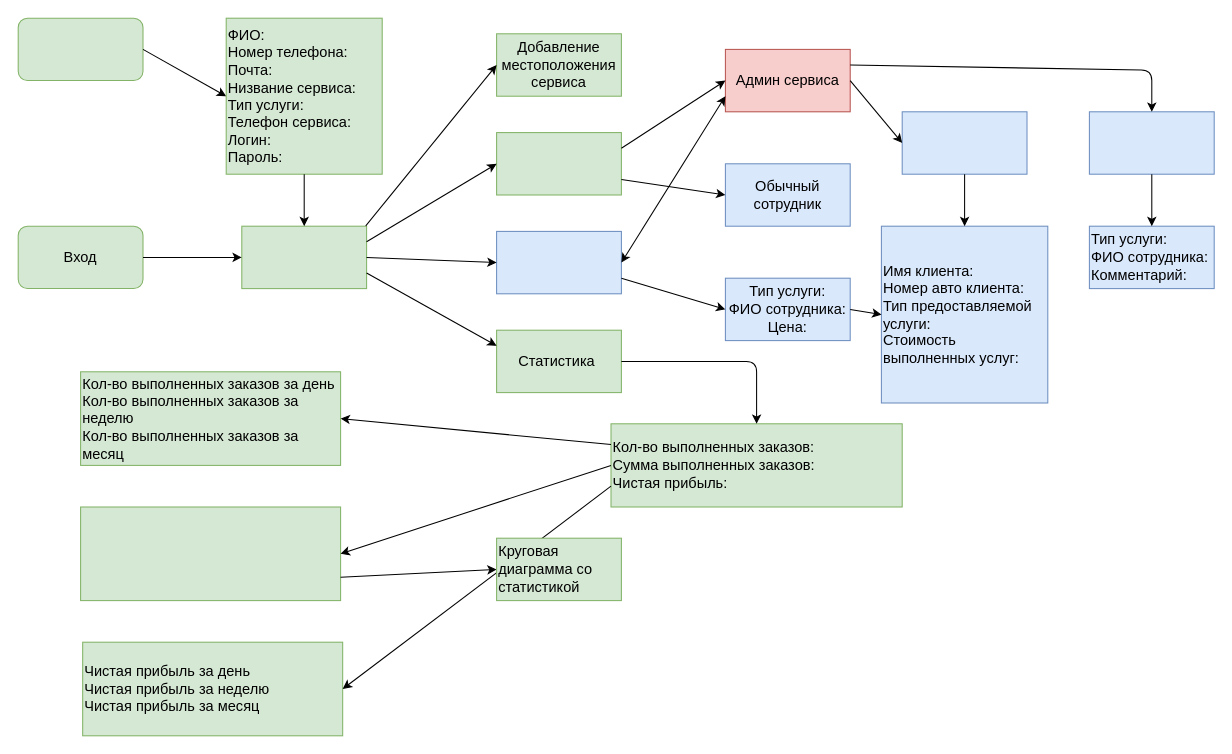
Image size: 1232x754. Some labels were removed from this diagram. Each missing label, with the box of its shape:
Добавление жалоб: (1088, 111, 1214, 174)
Добавление заказов: (901, 111, 1027, 174)
Добавление предоставляемых услуг: (496, 230, 621, 294)
Добавления сотрудников сервиса: (496, 132, 621, 195)
Меню: (241, 225, 367, 289)
Регистрация: (17, 17, 143, 81)
Соотношение прибыли и затрат: (80, 506, 341, 601)
